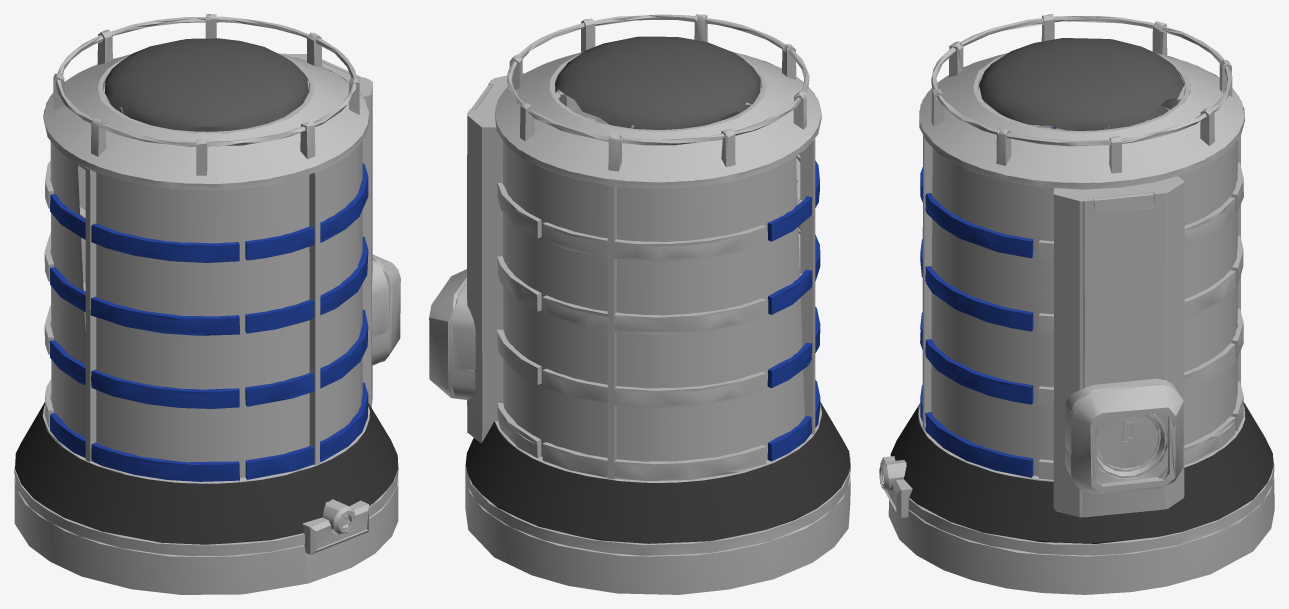
Rendered from card.glb.
The picture shows the model from 3 angles, left to right: view 1: azimuth 30°, elevation 25°; view 2: azimuth 150°, elevation 25°; view 3: azimuth 270°, elevation 25°; orthographic projection.
Visible parts, largest first — view 1: KB3D_MTM_PropPlantingModule_A_VerticalModuleA.001; view 2: KB3D_MTM_PropPlantingModule_A_VerticalModuleA.001; view 3: KB3D_MTM_PropPlantingModule_A_VerticalModuleA.001.
Part boxes in pixels (x1=…): KB3D_MTM_PropPlantingModule_A_VerticalModuleA.001: x1=14, y1=14, x2=400, y2=594; KB3D_MTM_PropPlantingModule_A_VerticalModuleA.001: x1=429, y1=14, x2=850, y2=594; KB3D_MTM_PropPlantingModule_A_VerticalModuleA.001: x1=879, y1=14, x2=1274, y2=594.
Size of the model in its own units: 0.4435 by 0.5253 by 0.4158.
